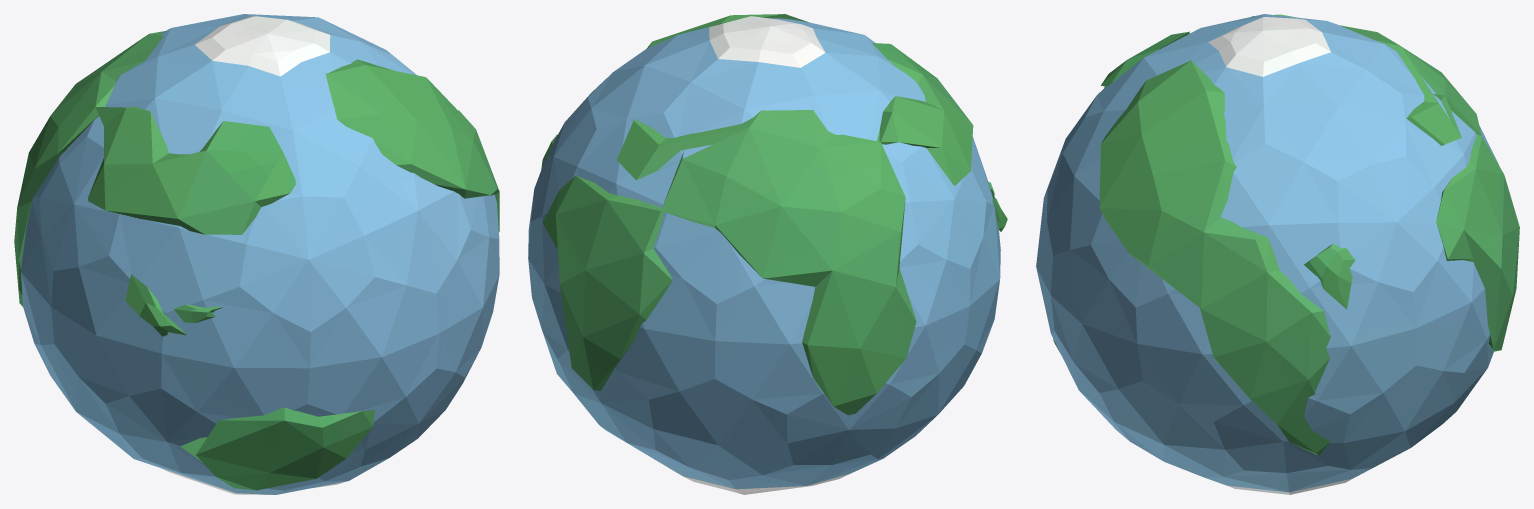
File: Earth.glb
3 views of the same model, side by side, from view 1: azimuth 30°, elevation 25°; view 2: azimuth 150°, elevation 25°; view 3: azimuth 270°, elevation 25° (orthographic).
Parts seen in each view (by area): view 1: Icosphere_Icosphere.001; view 2: Icosphere_Icosphere.001; view 3: Icosphere_Icosphere.001.
Boxes of the visible parts, x1,y1,x2,y2 form: Icosphere_Icosphere.001: (14,14,499,494); Icosphere_Icosphere.001: (528,14,1007,494); Icosphere_Icosphere.001: (1036,14,1519,494).
Bounding box in the file's own units: 17.22 × 17.52 × 17.23.
1 material, 1 textured.
